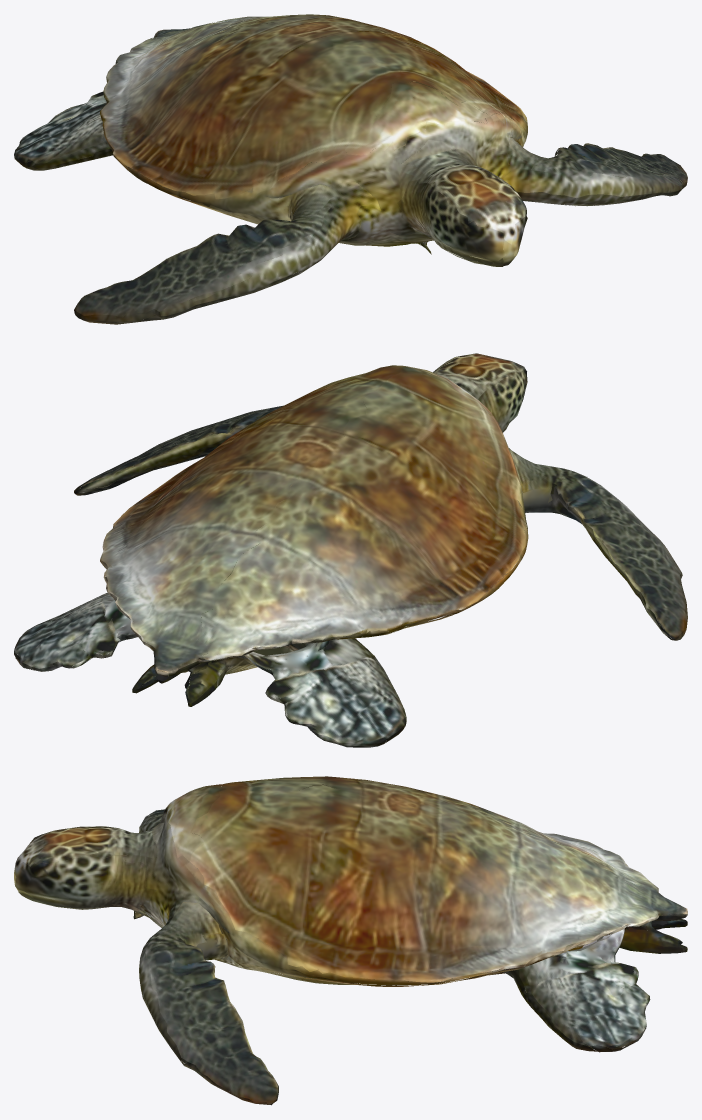
File: green-turtle.glb
3 renders of one model, top to bottom at view 1: azimuth 30°, elevation 25°; view 2: azimuth 150°, elevation 25°; view 3: azimuth 270°, elevation 25°, orthographic. The views are drawn at different scales.
Visible parts, largest first — view 1: green-turtle | Lux3D; view 2: green-turtle | Lux3D; view 3: green-turtle | Lux3D.
Boxes of the visible parts, bbox=[...] form: green-turtle | Lux3D: bbox=[14, 14, 687, 324]; green-turtle | Lux3D: bbox=[14, 353, 687, 747]; green-turtle | Lux3D: bbox=[14, 776, 687, 1105].
Size of the model in its own units: 1 by 0.2902 by 1.
Materials: 1 (1 with a texture image).
